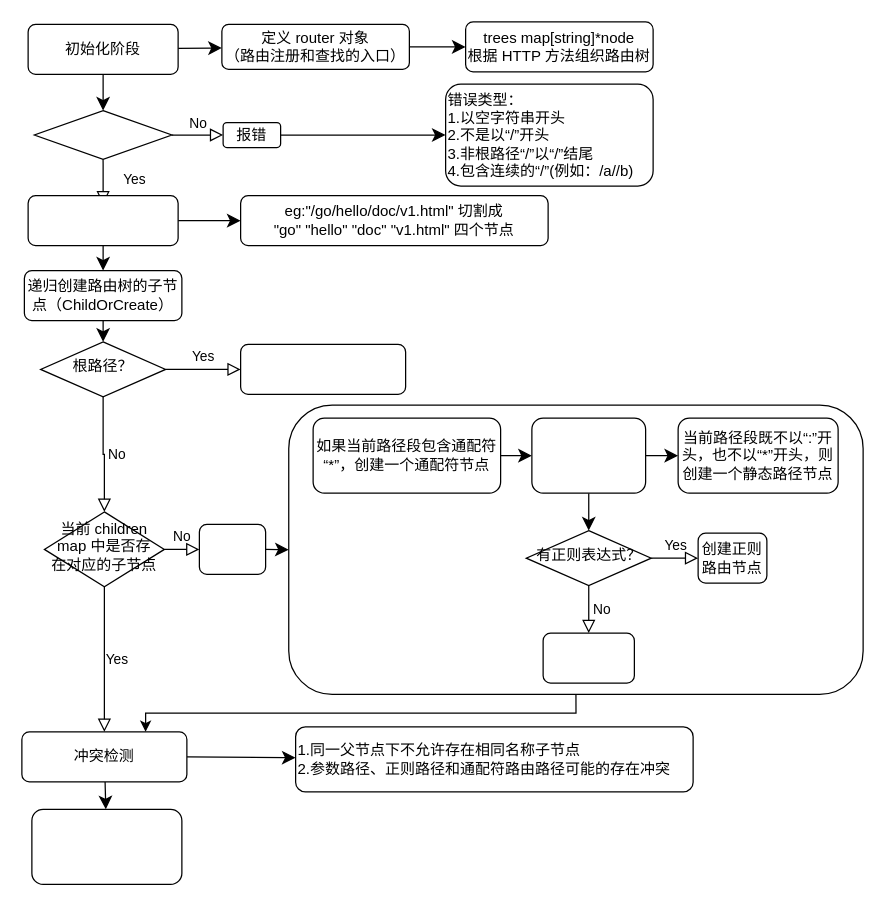
The diagram is 885 pixels wide and 906 high, and some of its shapes have lost their labels. The shapes that lost their labels are listed below. From the top down, each one's box as (x1, y1, x2, y2) in pixels, then its label:
(33, 109, 172, 159): 路由路径合法
(27, 194, 178, 246): 按照“/”切割路由路径
(239, 343, 406, 394): 特殊处理：直接在根节点上挂载 HandleFunc
(531, 417, 646, 493): 如果当前路径段以“:”开头
(198, 523, 266, 574): 创建新的子节点
(542, 632, 634, 683): 创建参数路径路由节点
(31, 808, 182, 884): 挂载 HandleFunc 完成路由注册
